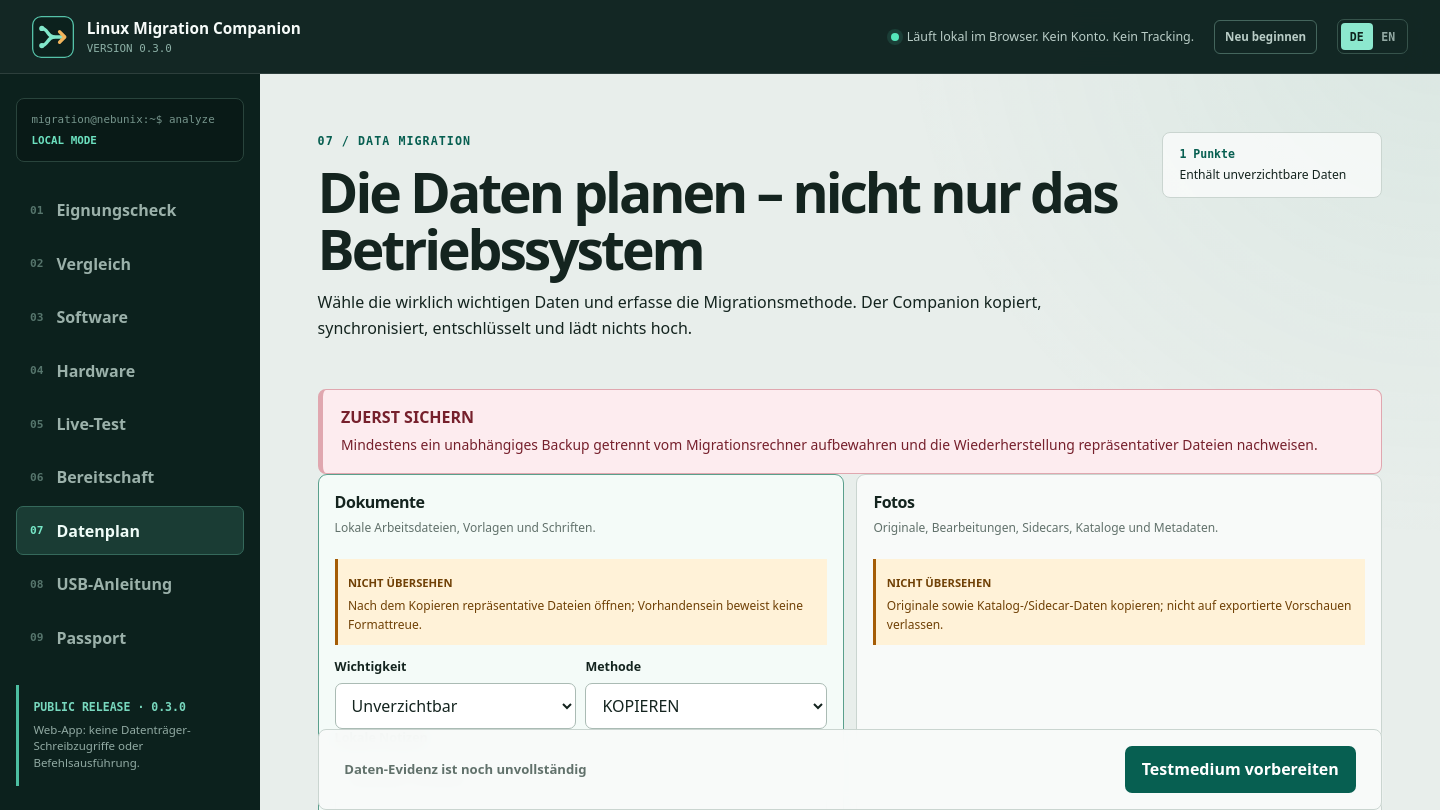
public release application flow › confirms a schema-valid clean reset and preserves unrelated storage and locale
Click the button "Neu beginnen" at (1266, 36), box [1214,20,1317,54]
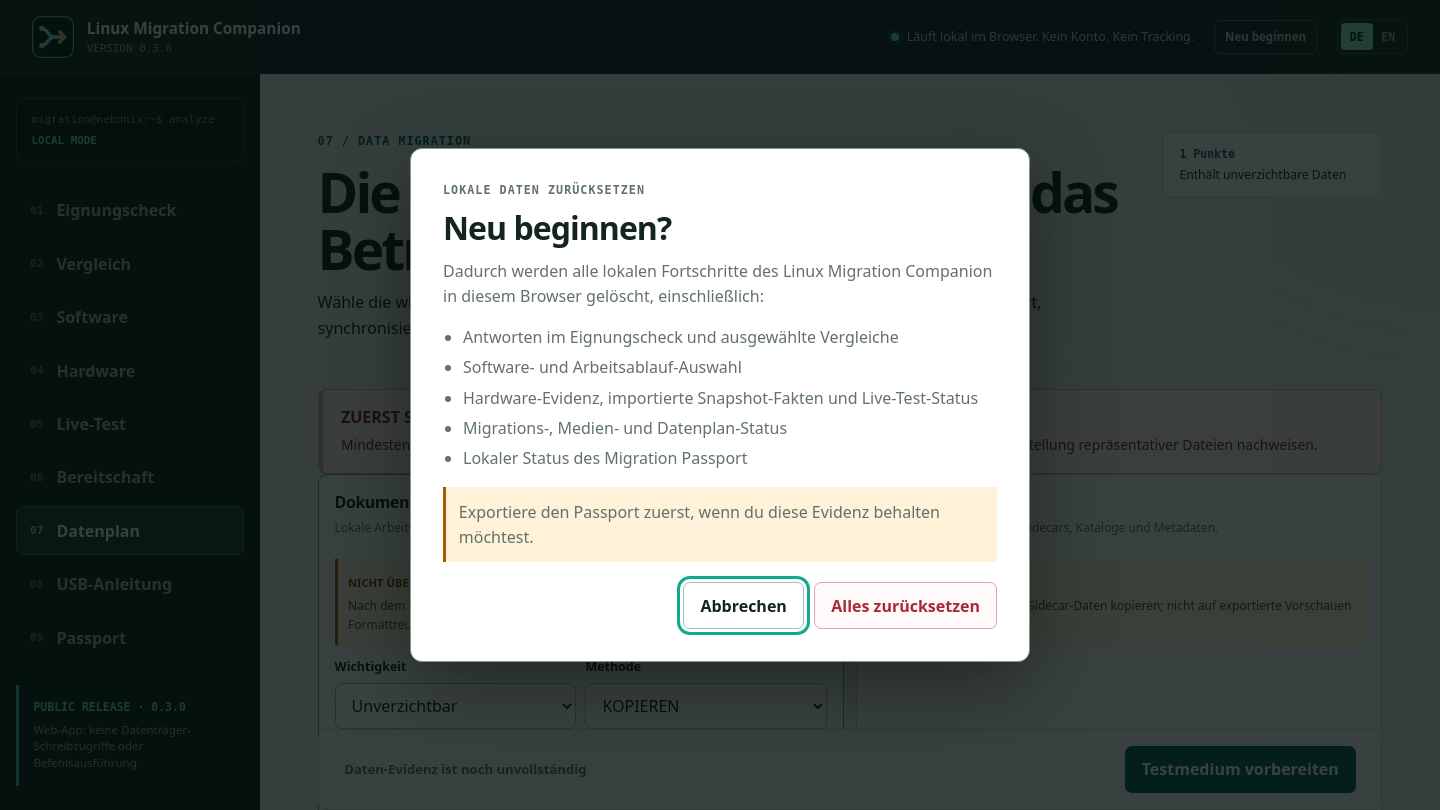
Click the button "Alles zurücksetzen" at (906, 606), box [814,582,997,629]
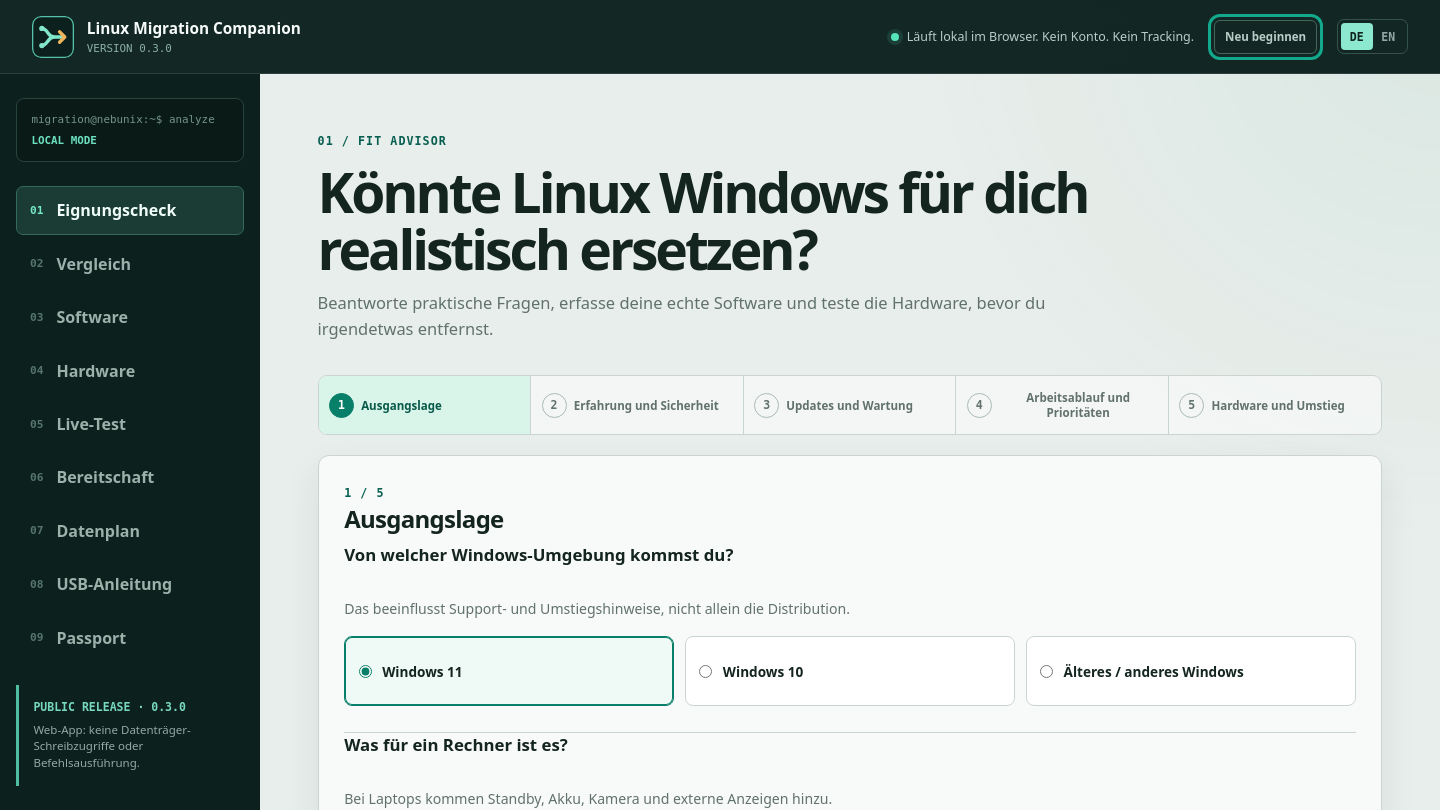
Now the heading "Könnte Linux Windows für dich realistisch ersetzen?" is shown, box [318,162,1218,278]
